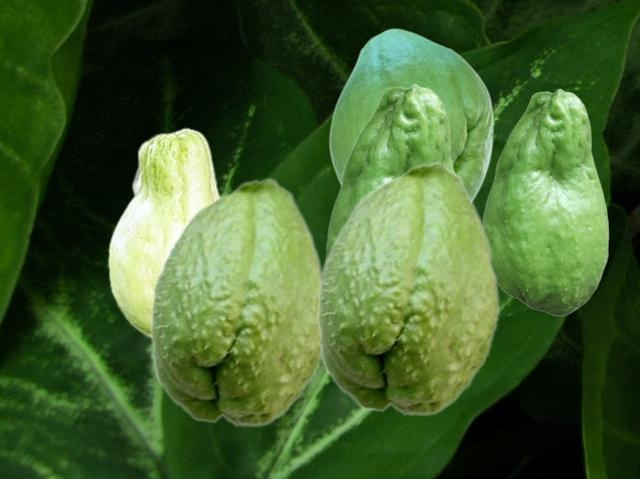sayote: (316, 160, 500, 416), (149, 176, 322, 427), (482, 88, 608, 315), (328, 28, 493, 200), (107, 127, 222, 339), (325, 83, 455, 257)
